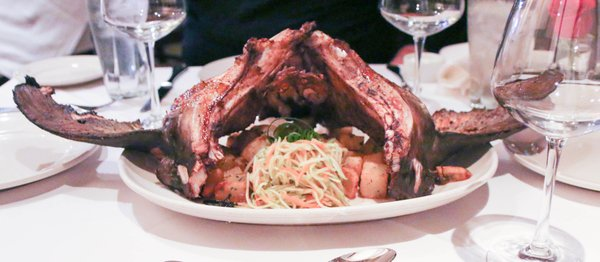soup: (142, 23, 442, 211)
